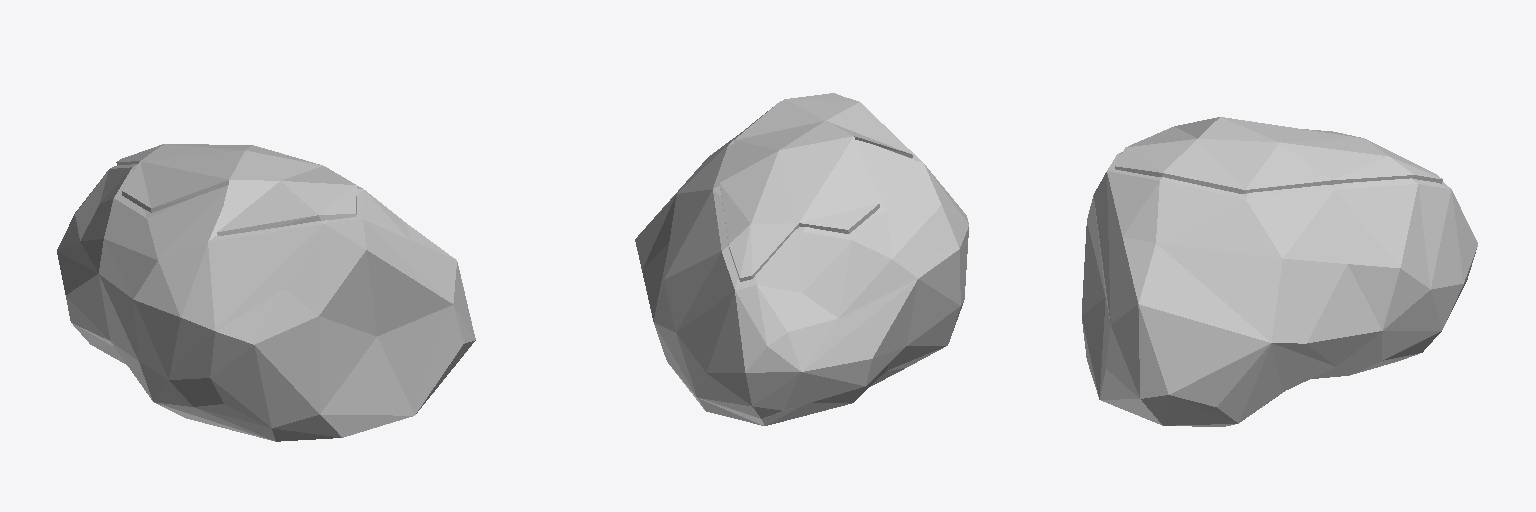
File: winter-rock7.obj
3 views of the same model, side by side, from view 1: azimuth 30°, elevation 25°; view 2: azimuth 150°, elevation 25°; view 3: azimuth 270°, elevation 25° (orthographic).
Visible parts, largest first — view 1: Cube.004; view 2: Cube.004; view 3: Cube.004.
Boxes of the visible parts, x1,y1,x2,y2 form: Cube.004: [57, 144, 475, 441]; Cube.004: [635, 93, 968, 425]; Cube.004: [1082, 117, 1477, 426].
Size of the model in its own units: 1.8 by 1.22 by 1.97.